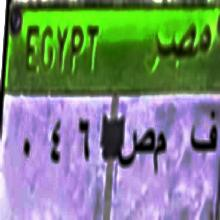0: (19, 136, 41, 172)
4: (48, 105, 66, 171)
6: (75, 111, 94, 170)
faa: (186, 103, 218, 160)
meem: (154, 130, 172, 178)
saad: (120, 122, 153, 172)
